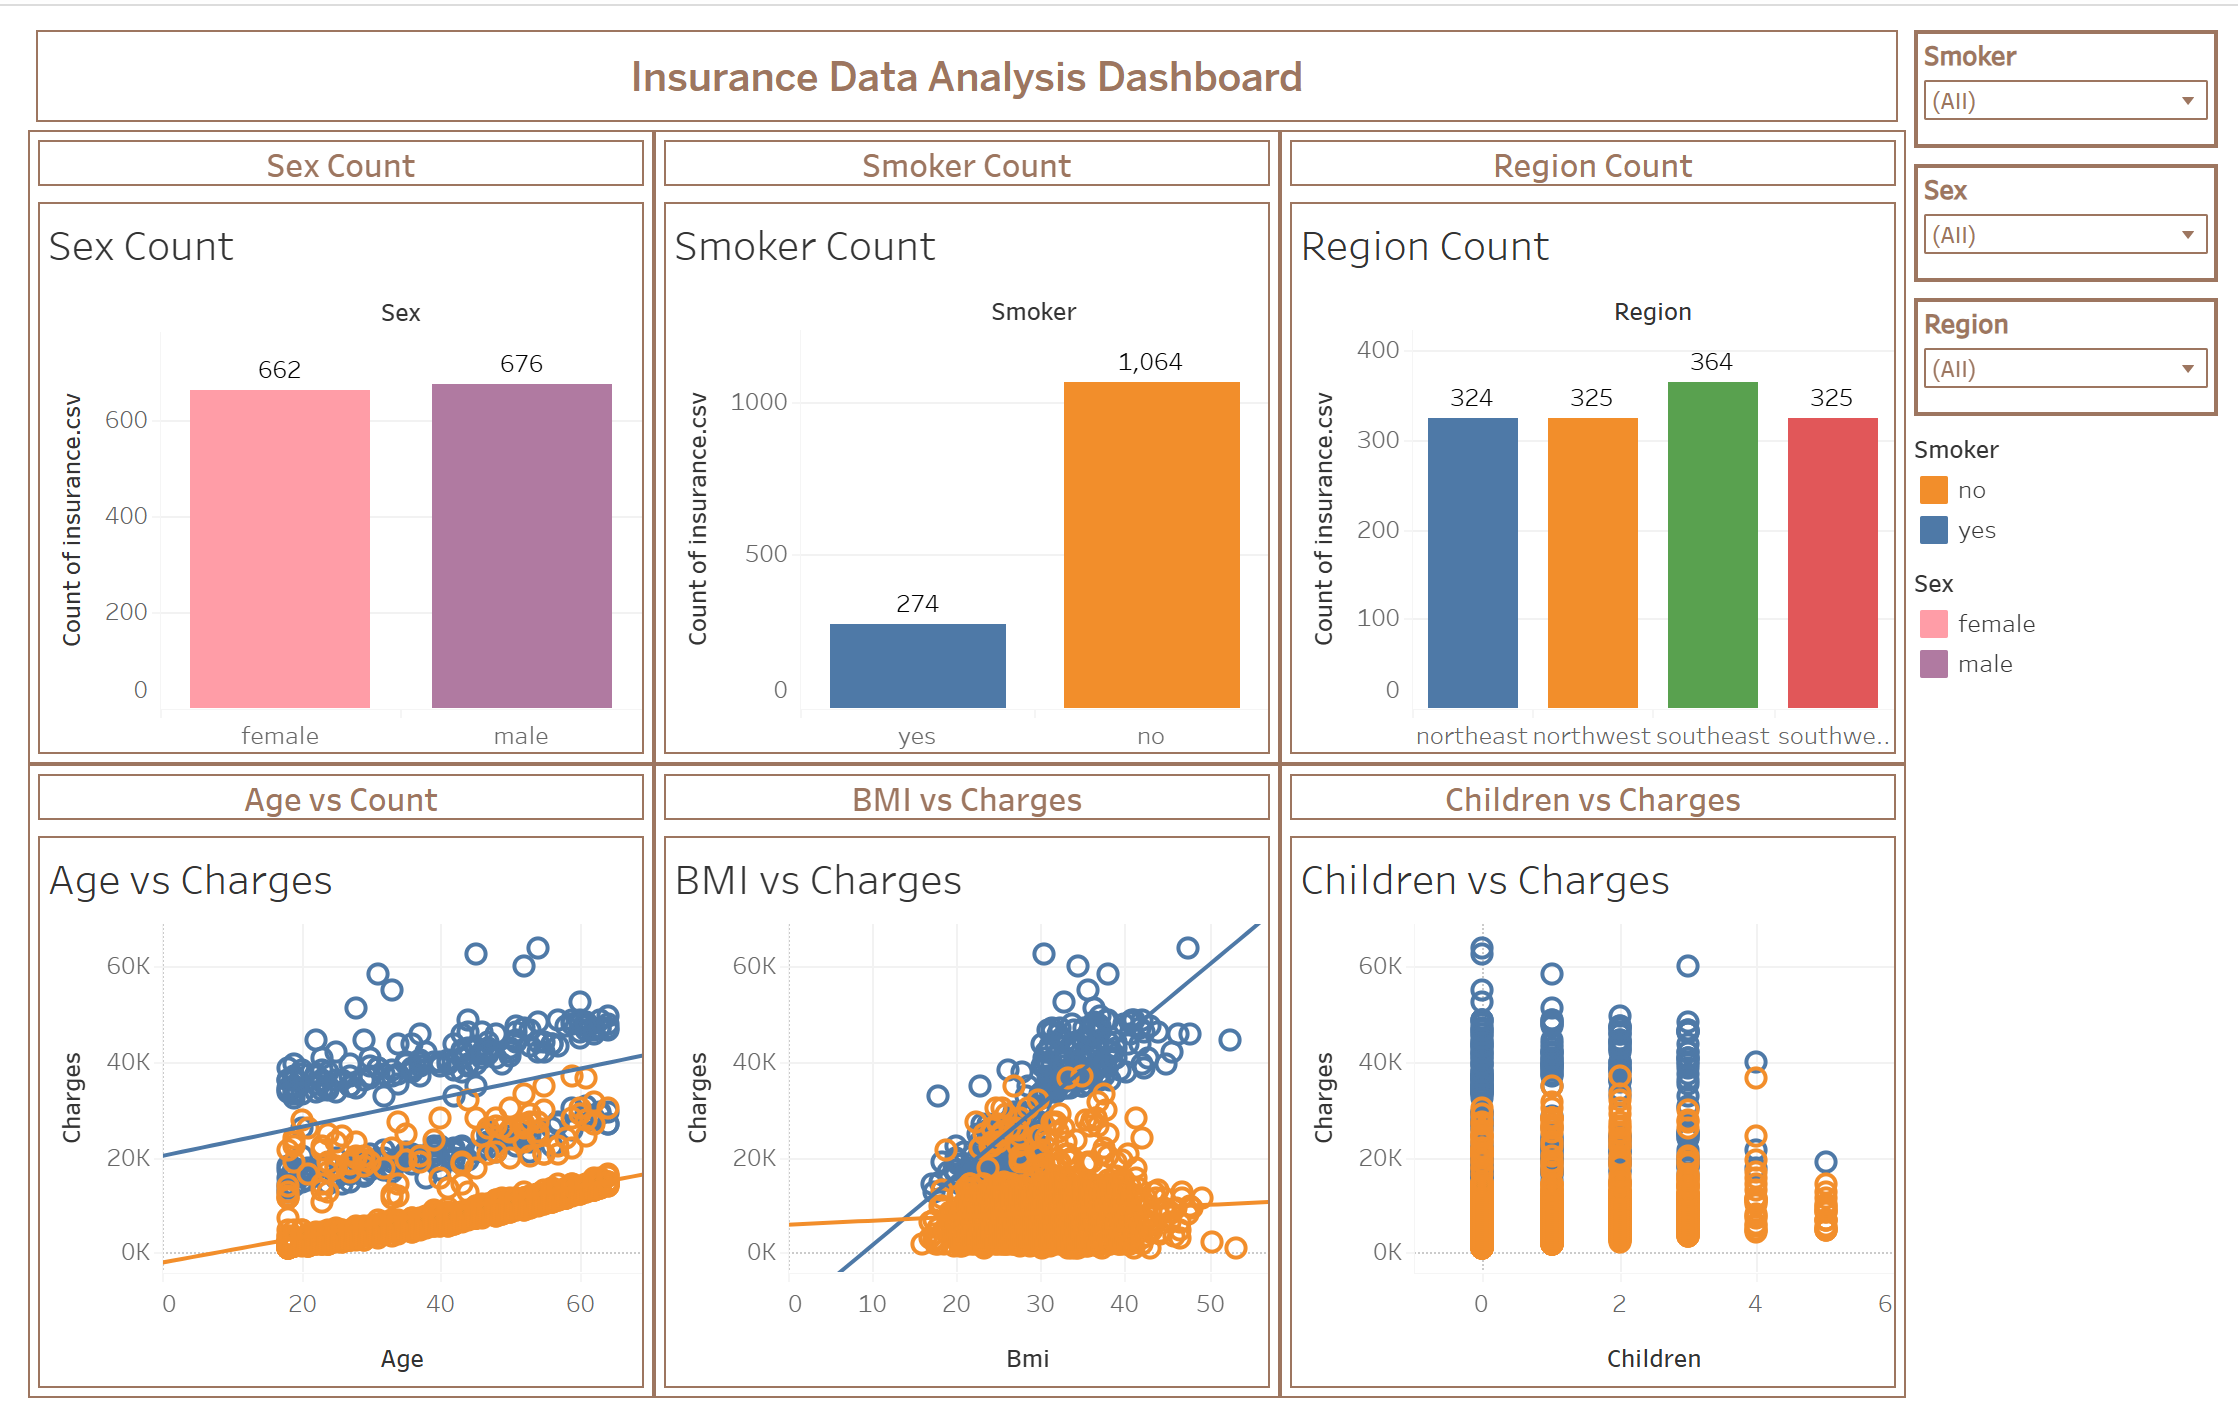

Layout of this report page (visuals, bound fields, positions):
{"tool":"tableau","page":{"name":"Insurance Data Analysis","canvas":[1000,1000],"units":"permille","ordinal":0},"visuals":[{"type":"text","box":[6.2,10.3,863.5,76.8]},{"type":"filter","title":"Age vs Charges","param":"[federated.1yw09l10v3yh5f1gwwjc71tgpl9s].[none:smoker:nk]","box":[869.7,10.3,124.1,81.2]},{"type":"text","box":[7,88.4,285.9,38.7]},{"type":"text","box":[294.4,88.4,286.4,38.7]},{"type":"text","box":[582.4,88.4,286.5,38.7]},{"type":"filter","title":"Age vs Charges","param":"[federated.1yw09l10v3yh5f1gwwjc71tgpl9s].[none:sex:nk]","box":[869.7,91.5,124.1,81.2]},{"type":"worksheet","title":"Sex Count","mark":"Automatic","rows":["insurance.csv_8672BF08CC554A0994DABA1BFA5264A8"],"cols":["sex"],"box":[7,127.1,285.9,409.9]},{"type":"worksheet","title":"Smoker Count","mark":"Automatic","rows":["insurance.csv_8672BF08CC554A0994DABA1BFA5264A8"],"cols":["smoker"],"box":[294.4,127.1,286.4,409.7]},{"type":"worksheet","title":"Region Count","mark":"Automatic","rows":["insurance.csv_8672BF08CC554A0994DABA1BFA5264A8"],"cols":["region"],"box":[582.4,127.1,286.5,409.7]},{"type":"filter","title":"Age vs Charges","param":"[federated.1yw09l10v3yh5f1gwwjc71tgpl9s].[none:region:nk]","box":[869.7,172.7,124.1,81.2]},{"type":"legend","title":"Children vs Charges","param":"[federated.1yw09l10v3yh5f1gwwjc71tgpl9s].[none:smoker:nk]","box":[869.7,253.9,124.1,85]},{"type":"legend","title":"Sex Count","param":"[federated.1yw09l10v3yh5f1gwwjc71tgpl9s].[none:sex:nk]","box":[869.7,338.9,124.1,85]},{"type":"text","box":[294.4,539.4,286.4,38.7]},{"type":"text","box":[582.4,539.4,286.5,38.7]},{"type":"text","box":[7,539.6,285.9,38.7]},{"type":"worksheet","title":"BMI vs Charges","mark":"Automatic","rows":["charges"],"cols":["bmi"],"box":[294.4,578,286.4,410.4]},{"type":"worksheet","title":"Children vs Charges","mark":"Automatic","rows":["charges"],"cols":["children"],"box":[582.4,578,286.5,410.4]},{"type":"worksheet","title":"Age vs Charges","mark":"Automatic","rows":["charges"],"cols":["age"],"box":[7,578.2,285.9,410.2]}]}

Visuals, with their boxes on the dashboard's canvas, which has no fixed pixel size, in thousandths of its width and height (x1, y1, x2, y2). These are canvas units, not pixel positions in the 2238x1406 screenshot, which may show the page scaled, cropped or inside an application window:
text: box=[6, 10, 870, 87]
"Age vs Charges" filter: box=[870, 10, 994, 92]
text: box=[7, 88, 293, 127]
text: box=[294, 88, 581, 127]
text: box=[582, 88, 869, 127]
"Age vs Charges" filter: box=[870, 92, 994, 173]
"Sex Count" worksheet: box=[7, 127, 293, 537]
"Smoker Count" worksheet: box=[294, 127, 581, 537]
"Region Count" worksheet: box=[582, 127, 869, 537]
"Age vs Charges" filter: box=[870, 173, 994, 254]
"Children vs Charges" legend: box=[870, 254, 994, 339]
"Sex Count" legend: box=[870, 339, 994, 424]
text: box=[294, 539, 581, 578]
text: box=[582, 539, 869, 578]
text: box=[7, 540, 293, 578]
"BMI vs Charges" worksheet: box=[294, 578, 581, 988]
"Children vs Charges" worksheet: box=[582, 578, 869, 988]
"Age vs Charges" worksheet: box=[7, 578, 293, 988]
